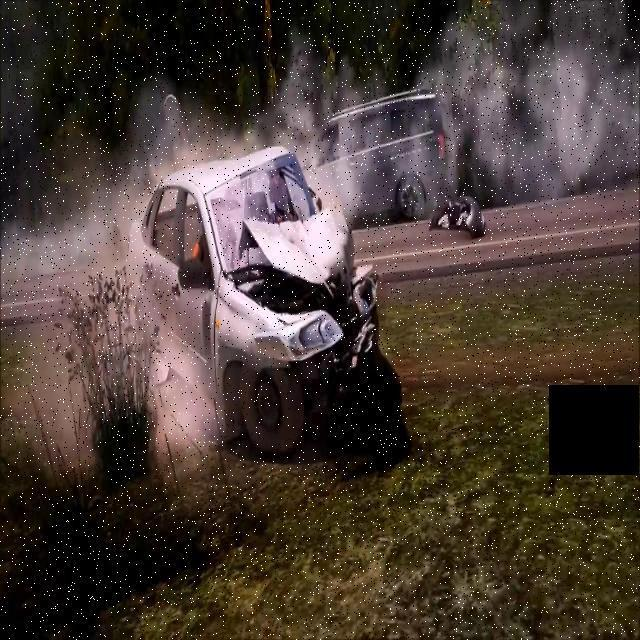vehicle: (129, 90, 374, 461), (223, 45, 518, 246)
